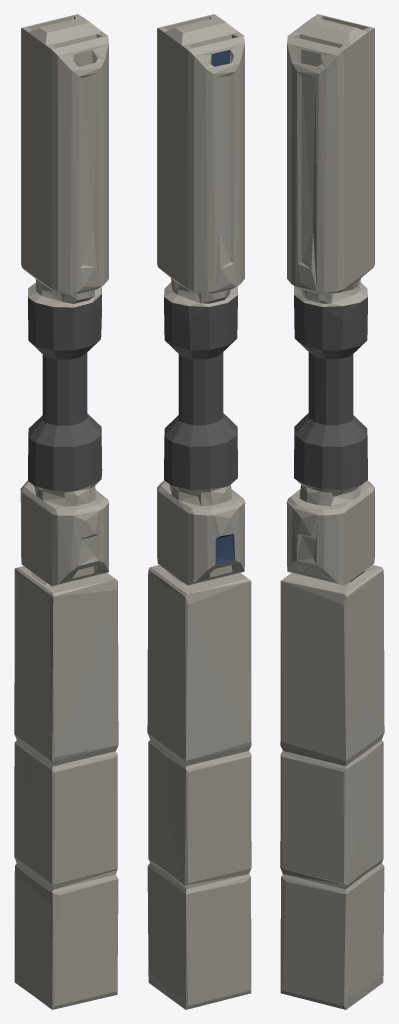
File: column_complex.fbx
3 renders of one model, left to right at view 1: azimuth 30°, elevation 25°; view 2: azimuth 210°, elevation 25°; view 3: azimuth 330°, elevation 25°, orthographic.
Parts seen in each view (by area): view 1: column_complex; view 2: column_complex; view 3: column_complex.
Part boxes in pixels (x1,y1,x2,y2): column_complex: (14,14,118,1009); column_complex: (147,14,251,1009); column_complex: (280,14,384,1009).
Bounding box in the file's own units: 36.41 × 493 × 46.23.
